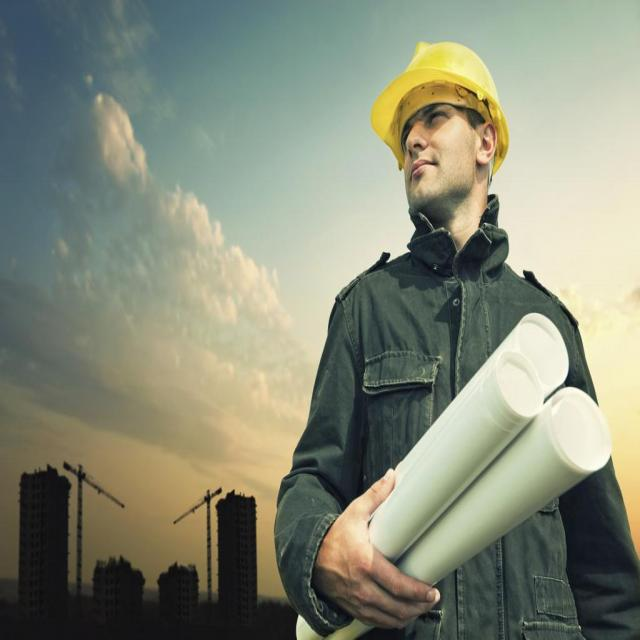nomask: (402, 60, 472, 195)
